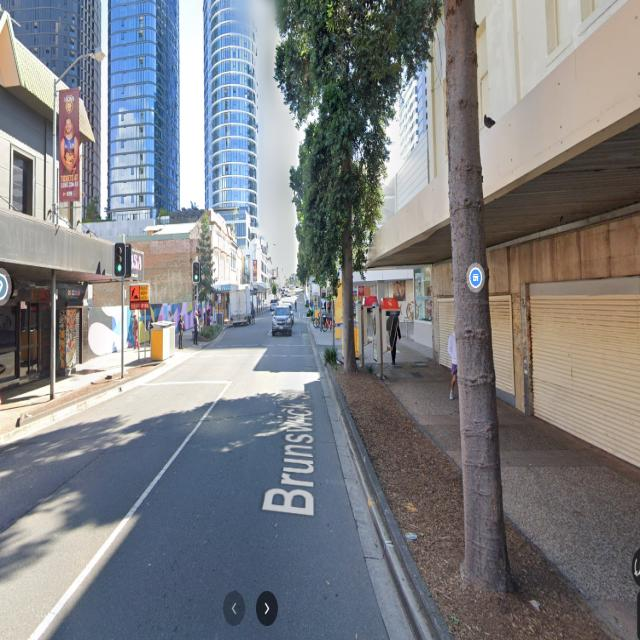light pole: (50, 49, 106, 399)
steel-pole: (51, 79, 58, 399), (120, 232, 125, 380), (195, 256, 199, 314)
streetlight: (56, 50, 105, 83)
traffic pole: (114, 233, 132, 381), (192, 256, 204, 317)
traffic-light: (113, 242, 126, 277), (124, 243, 132, 278), (192, 261, 200, 283), (200, 262, 202, 283)
